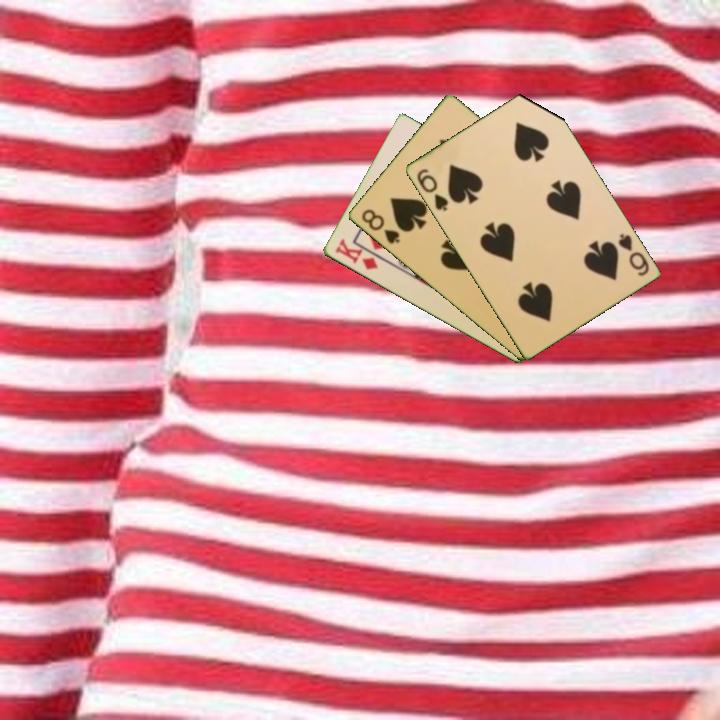6s: (614, 229, 652, 279), (413, 165, 451, 214)
8s: (358, 205, 402, 247)
Kd: (331, 235, 381, 273)
